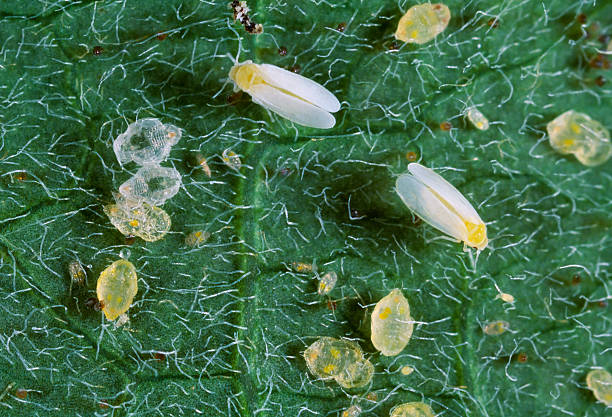Tobacco Whitefly: (378, 157, 502, 256), (214, 56, 345, 134)
